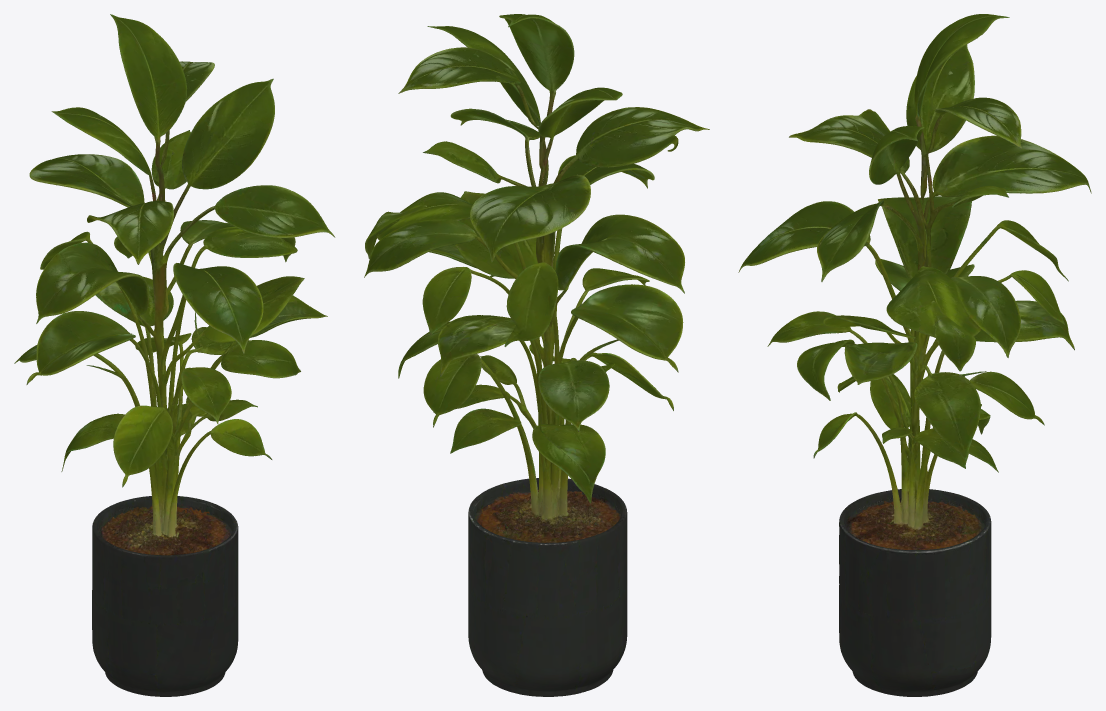
File: flower-pot.glb
The picture shows the model from 3 angles, left to right: view 1: azimuth 30°, elevation 25°; view 2: azimuth 150°, elevation 25°; view 3: azimuth 270°, elevation 25°; orthographic projection. The views are drawn at different scales.
Bounding box in the file's own units: 0.8601 × 1.9 × 0.9343.
Materials: 1 (1 with a texture image).
